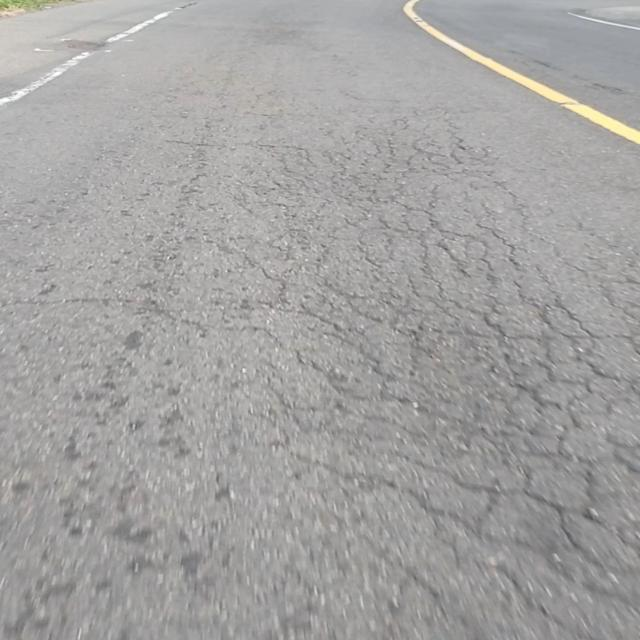Retak Buaya: (283, 141, 640, 636)
